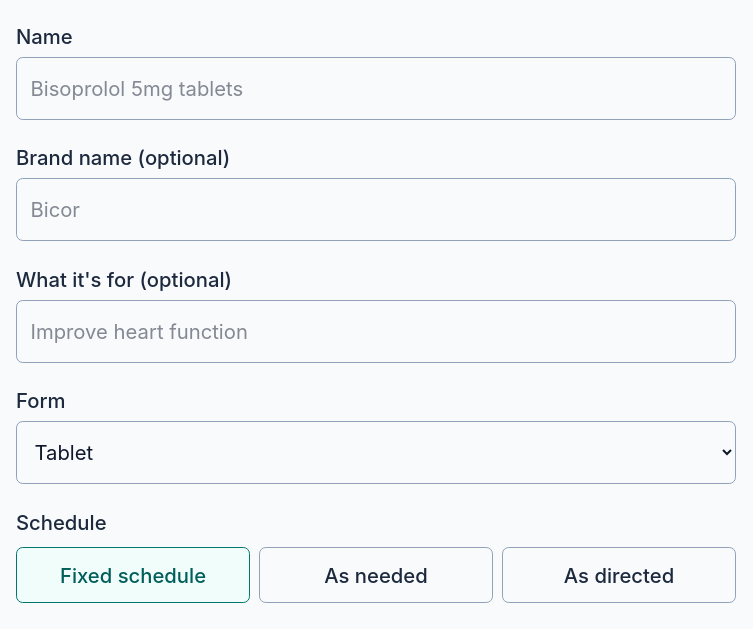
it: MedicationForm: unit field for non-tablet forms › shows the measure field for a liquid
Select "Liquid" in the dropdown labelled "Form". click: (376, 453)
box: [16,422,736,484]
(page scrolled)
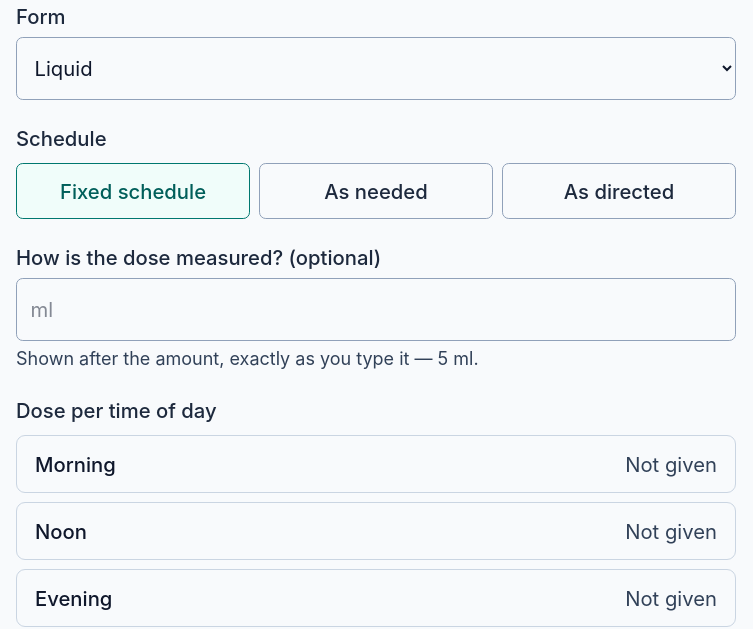
Result: the field labelled "How is the dose measured? (optional)" is shown at [16,278,736,341]
